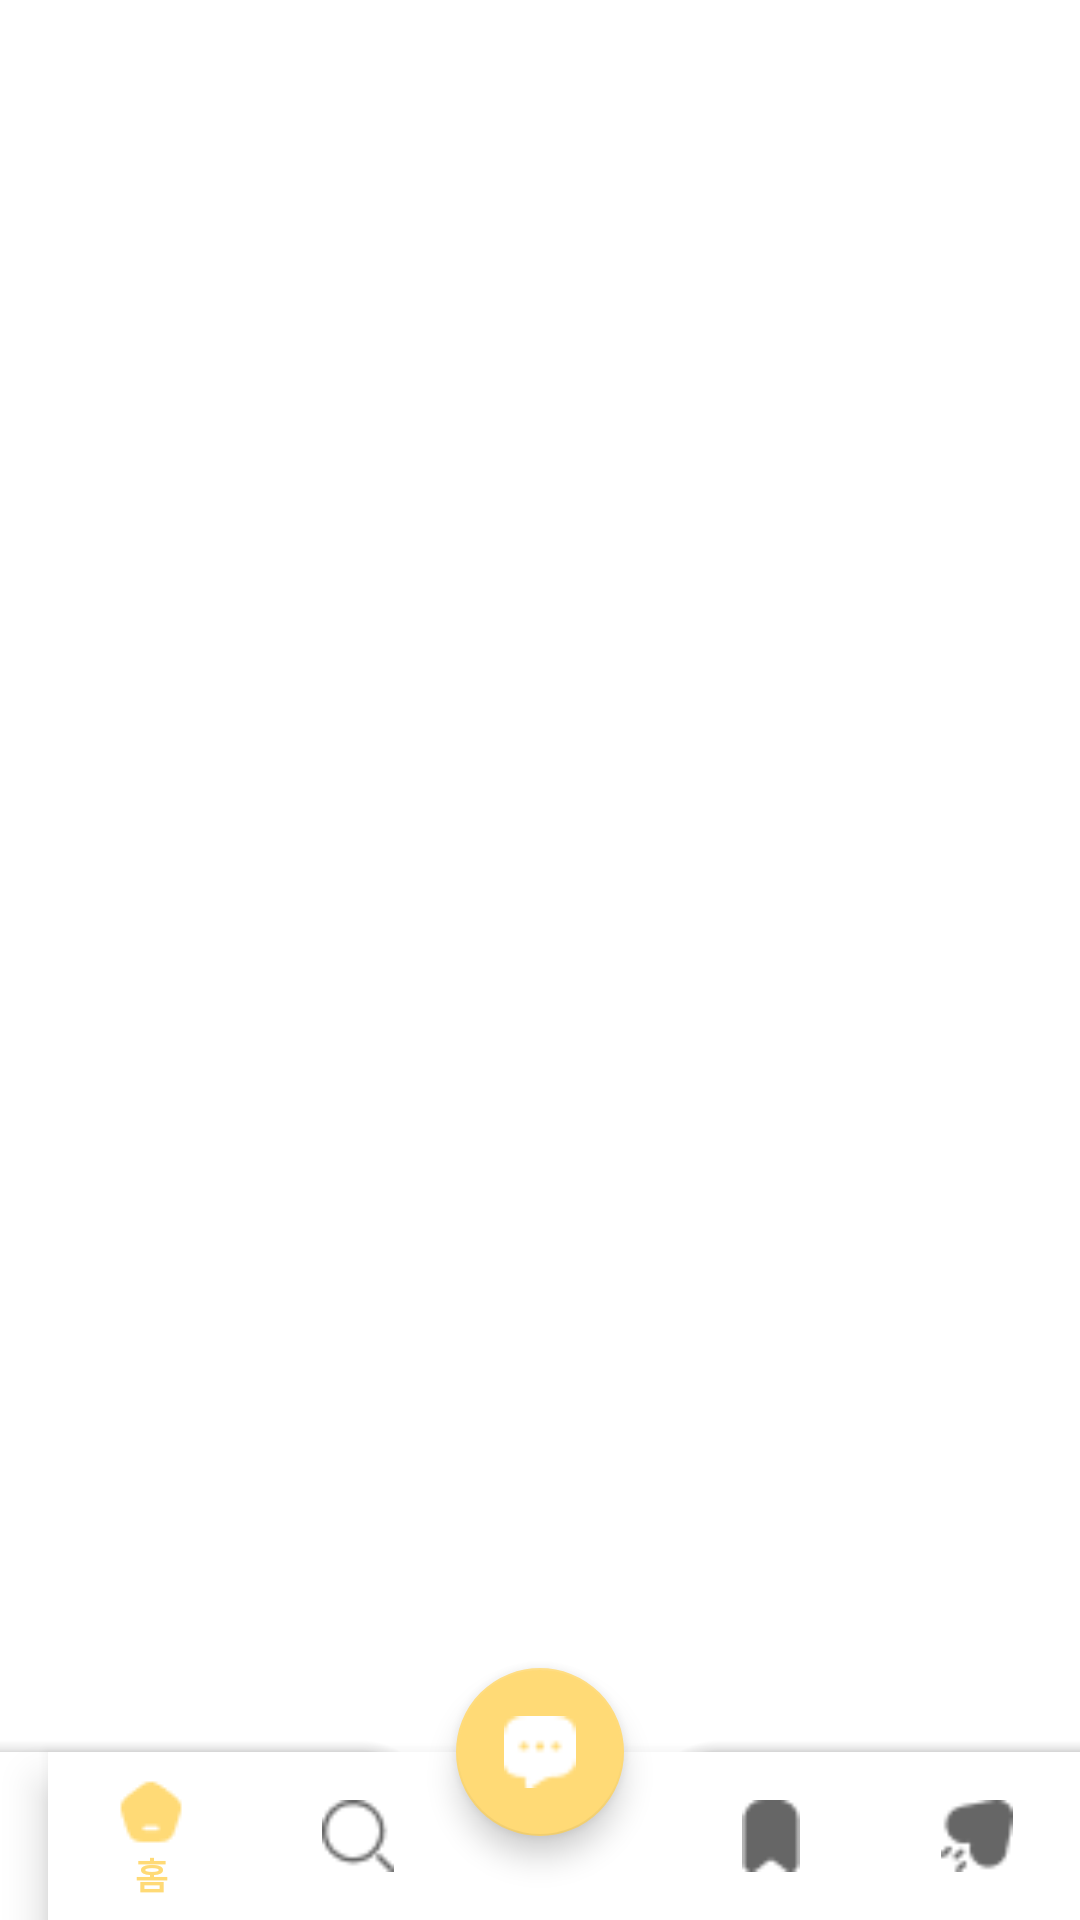

Named icons in this screenshot (1080x1920) and their centers, point (x, y):
chat: point (540, 1752)
